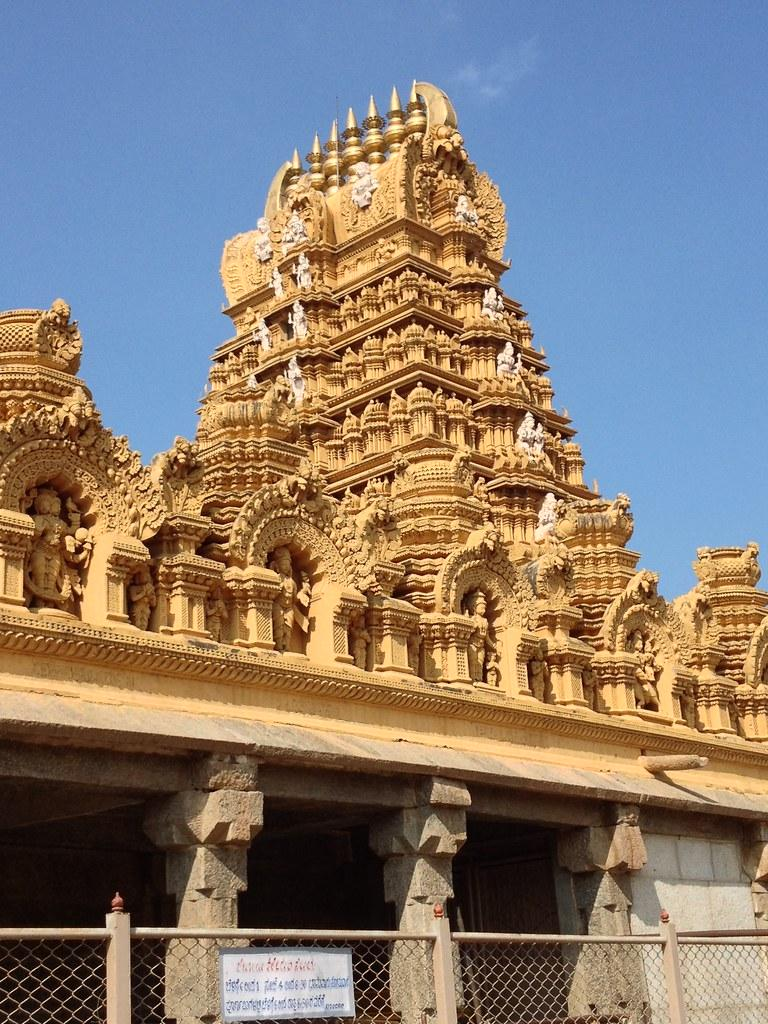temple: (1, 77, 767, 1023)
